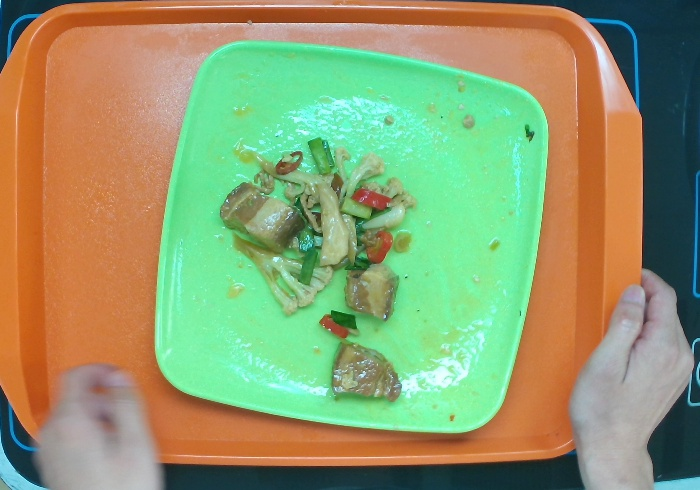ZNLD-Lv_Fang_Pan: (150, 38, 552, 436)
